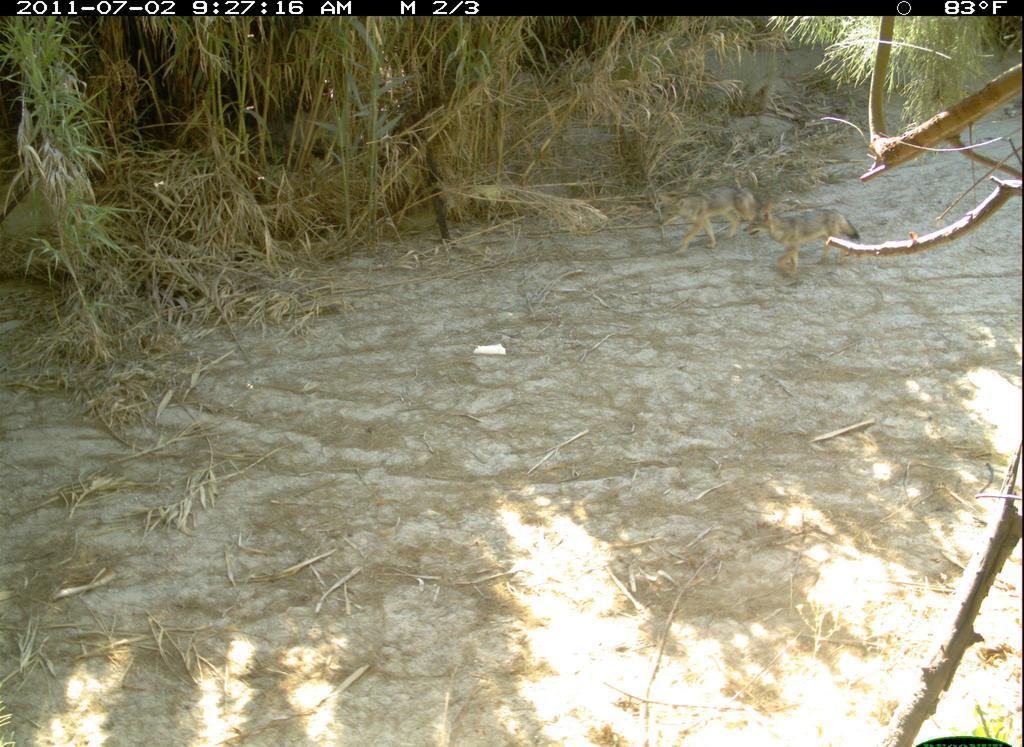coyote: (743, 201, 891, 285), (639, 175, 768, 255)
